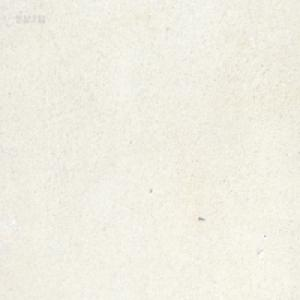Nail: (197, 215, 205, 221)
